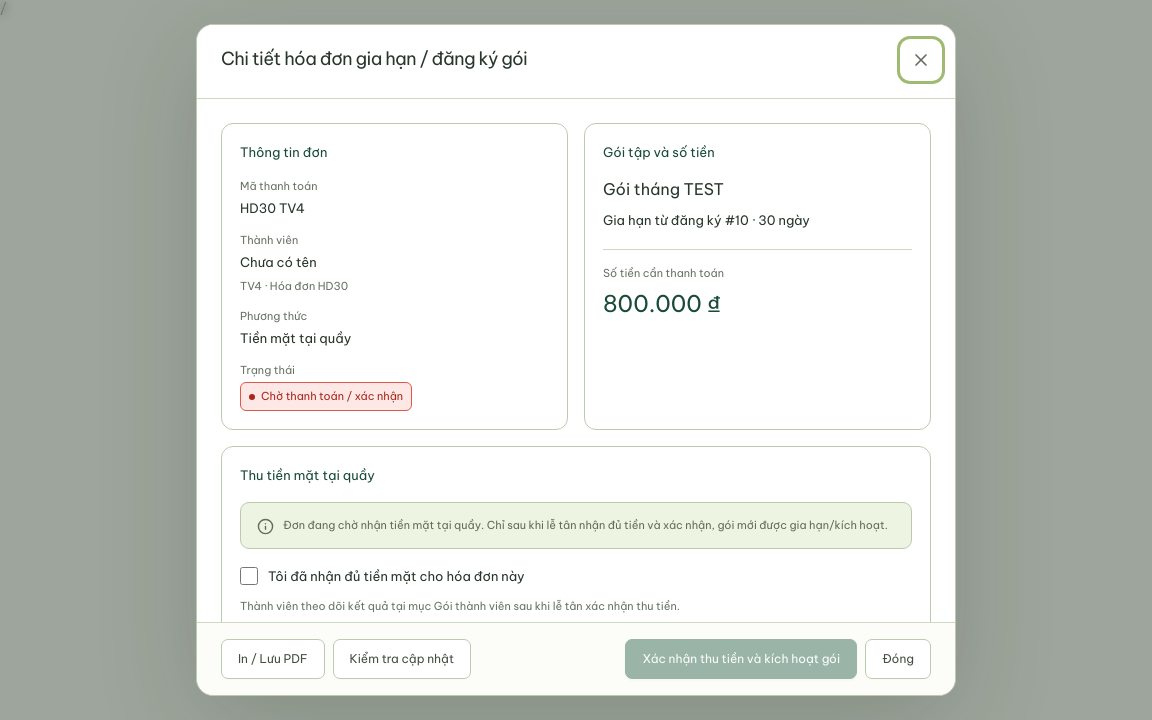
Scenario: Gia hạn qua hóa đơn chờ — mock hợp đồng API, không phải backend thật › reception confirms cash only after receipt checkbox and renders server activation result
Check: the button "Xác nhận thu tiền và kích hoạt gói" is disabled, box [626, 639, 857, 679]
Click the checkbox labelled "Tôi đã nhận đủ tiền mặt cho hóa đơn này". click: (249, 576)
box: [240, 566, 258, 584]
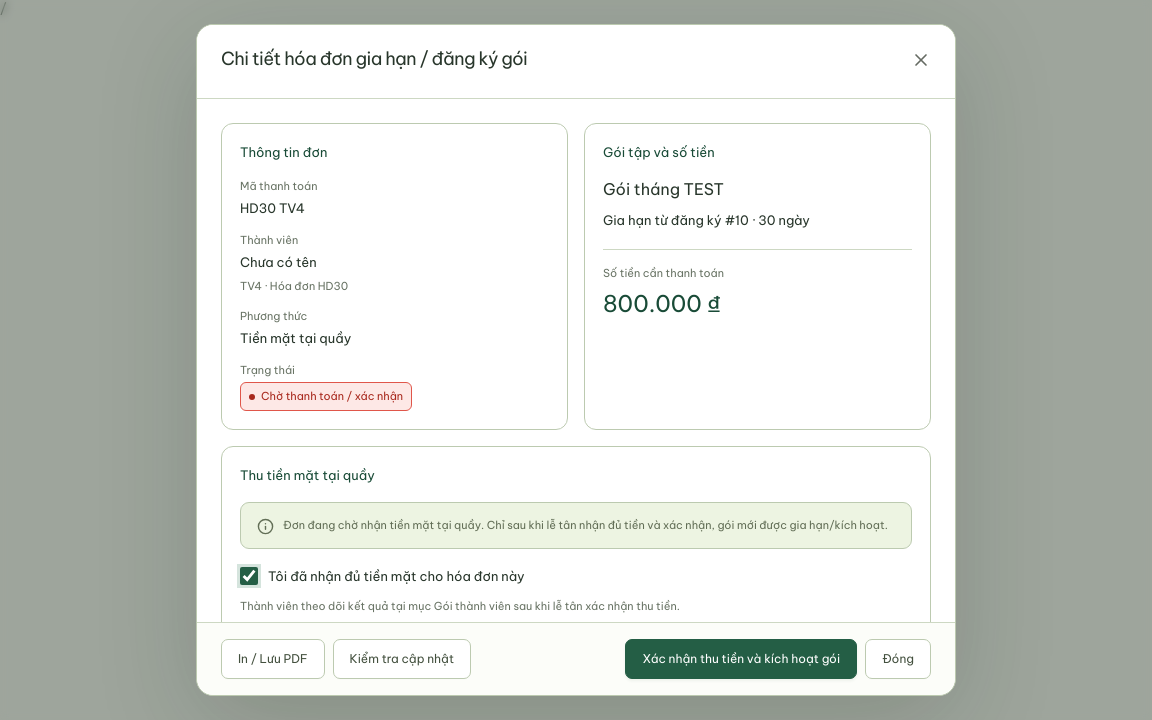
Click the button "Xác nhận thu tiền và kích hoạt gói". click: (741, 659)
box: [626, 639, 857, 679]
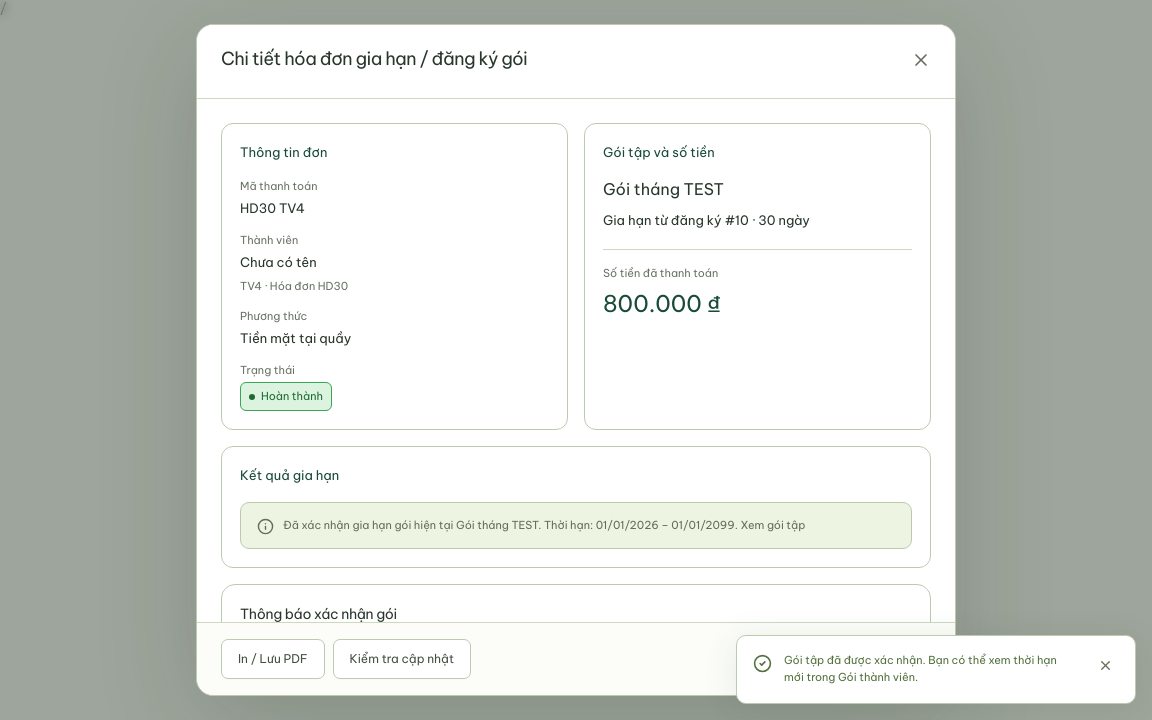
Check: the text "Đã xác nhận gia hạn gói hiện tại" is shown, box [283, 516, 805, 534]
